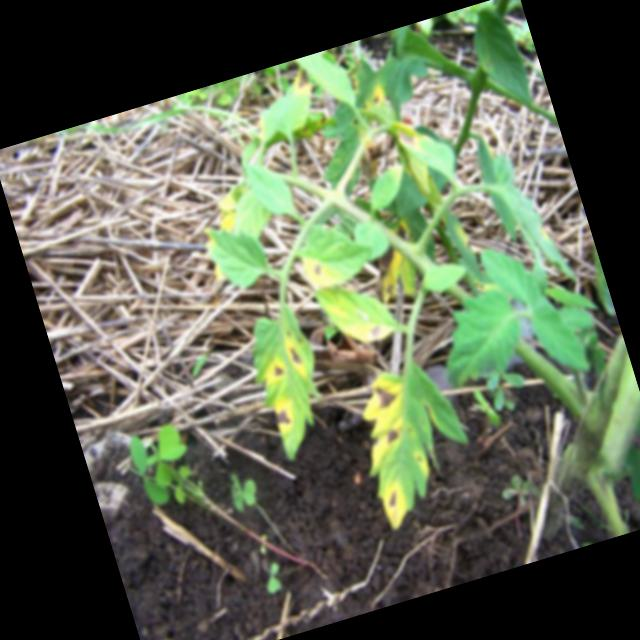Early_blight: (358, 224, 424, 301), (377, 478, 413, 531), (364, 375, 409, 414), (351, 314, 398, 346), (283, 332, 310, 380), (301, 252, 333, 291), (391, 121, 424, 156), (259, 352, 292, 384), (270, 394, 296, 431), (378, 421, 404, 447), (292, 65, 313, 91)
